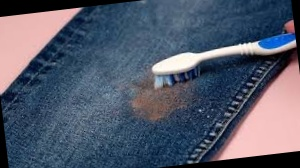earth: (136, 91, 181, 119)
